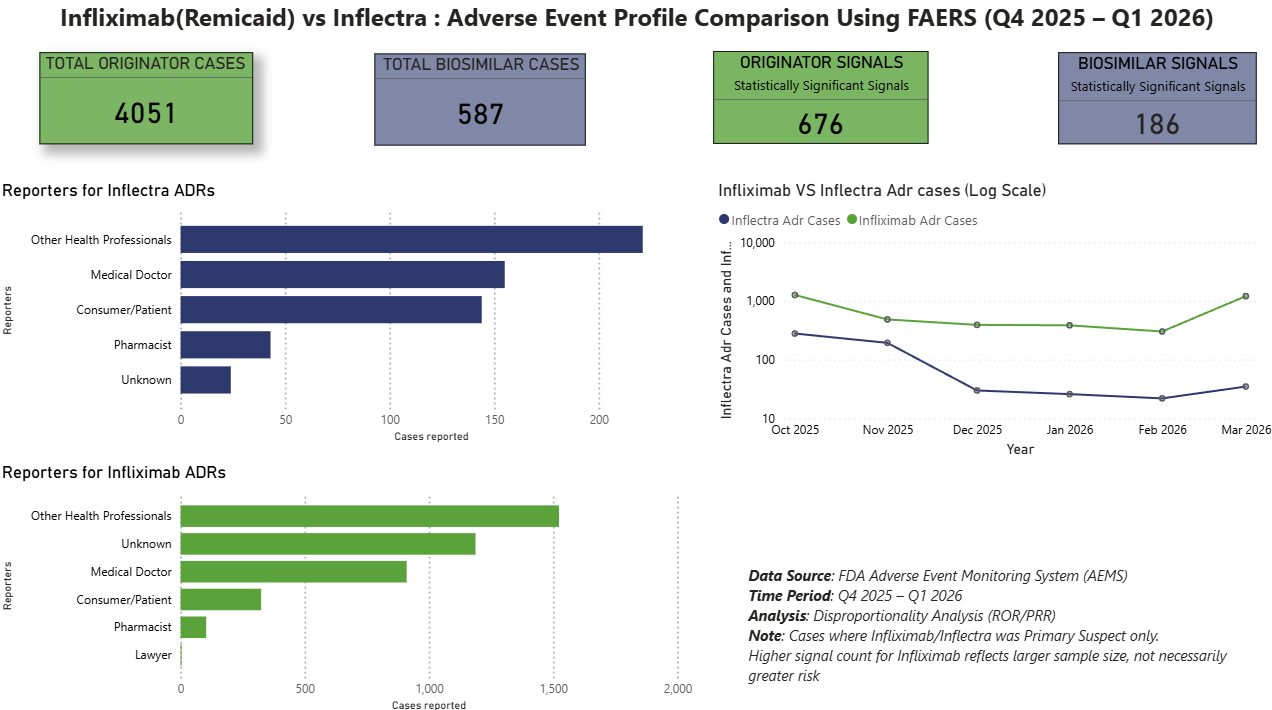

The dashboard page shown, as its layout file describes it:
{"tool":"powerbi","page":{"name":"OVERVIEW","canvas":[1280,720],"ordinal":0},"visuals":[{"type":"card","title":"TOTAL BIOSIMILAR CASES","fields":{"Values":["CountNonNull(demo_biosimilar.primaryid)"]},"box":[377.9,57.5,211.6,91.7],"z":0},{"type":"card","title":"TOTAL ORIGINATOR CASES","fields":{"Values":["CountNonNull(demo_originator.primaryid)"]},"box":[42.8,56.3,214,91.7],"z":1000},{"type":"card","title":"BIOSIMILAR SIGNALS","fields":{"Values":["CountNonNull(signals_biosimilar.reaction)"]},"box":[1061.4,56.3,198.1,91.7],"z":2000},{"type":"card","title":"ORIGINATOR SIGNALS","fields":{"Values":["CountNonNull(signals_originator.reaction)"]},"box":[716.6,55,215.2,92.9],"z":3000},{"type":"lineChart","title":"Infliximab VS Inflectra Adr cases (Log Scale) ","fields":{"Category":["DateTable.Date.Variation.Date Hierarchy.Year","DateTable.Date.Variation.Date Hierarchy.Quarter","DateTable.Date.Variation.Date Hierarchy.Month"],"Y":["CountNonNull(demo_biosimilar.primaryid)","CountNonNull(demo_originator.primaryid)"]},"box":[716.6,183.4,563.7,282.5],"z":4000},{"type":"textbox","box":[0,0,1280.3,46.5],"z":5000},{"type":"textbox","box":[745.9,563.7,529.5,145.5],"z":6000},{"type":"clusteredBarChart","title":"Reporters for Inflectra ADRs","fields":{"Category":["demo_biosimilar.occp_cod"],"Y":["CountNonNull(demo_biosimilar.occp_cod)"]},"box":[0,183.4,700.7,267.8],"z":7000},{"type":"clusteredBarChart","title":"Reporters for Infliximab ADRs","fields":{"Category":["demo_originator.occp_cod"],"Y":["CountNonNull(demo_originator.occp_cod)"]},"box":[0,465.9,700.7,254.3],"z":8000}]}

Visuals, with their boxes in screenshot pixels (x1, y1, x2, y2), scaled from the page's 1280x720 canvas onto the 1272x710 screenshot:
"TOTAL BIOSIMILAR CASES" card: l=376, t=57, r=586, b=147
"TOTAL ORIGINATOR CASES" card: l=43, t=56, r=255, b=146
"BIOSIMILAR SIGNALS" card: l=1055, t=56, r=1252, b=146
"ORIGINATOR SIGNALS" card: l=712, t=54, r=926, b=146
"Infliximab VS Inflectra Adr cases (Log Scale) " lineChart: l=712, t=181, r=1271, b=459
textbox: l=0, t=0, r=1271, b=46
textbox: l=741, t=556, r=1267, b=699
"Reporters for Inflectra ADRs" clusteredBarChart: l=0, t=181, r=696, b=445
"Reporters for Infliximab ADRs" clusteredBarChart: l=0, t=459, r=696, b=709
